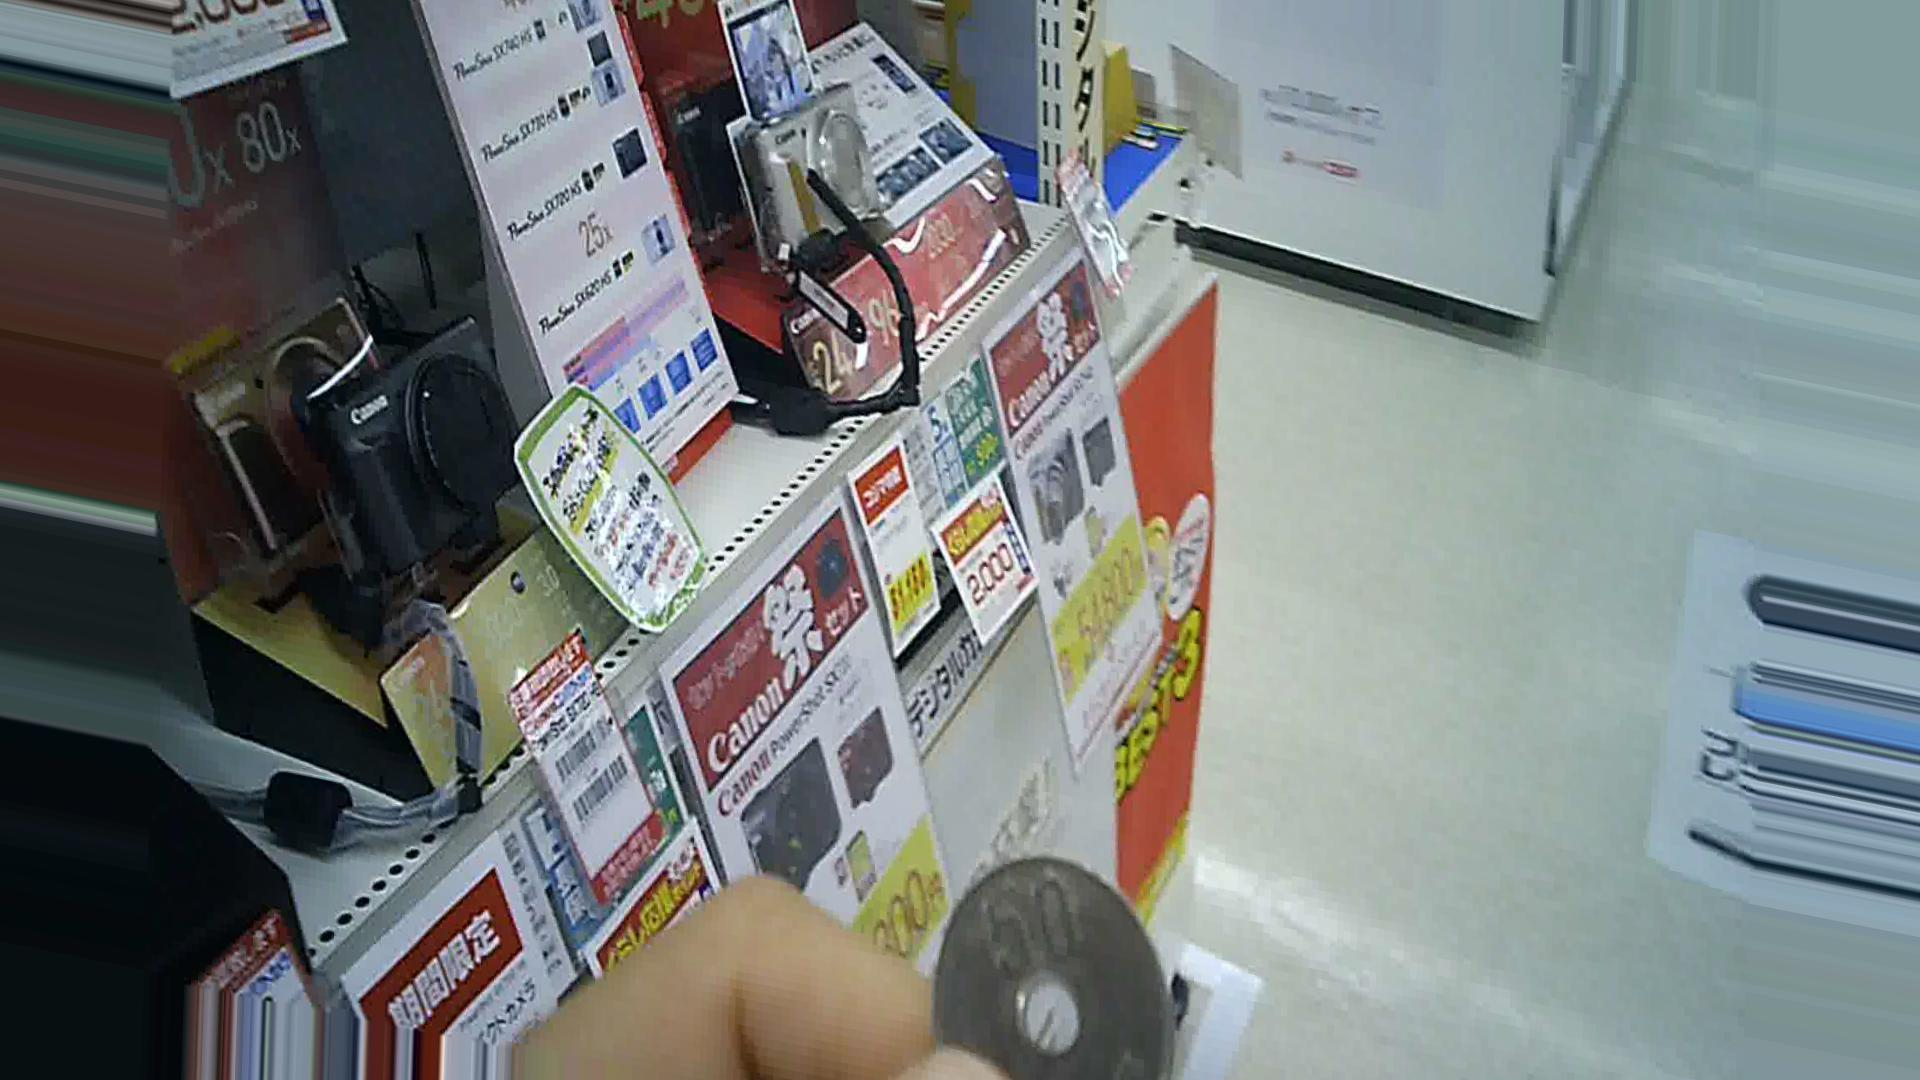50 Yen: (915, 861, 1179, 1079)
